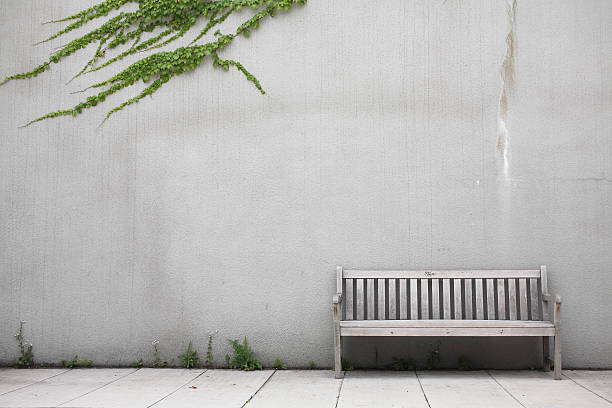bench: (328, 262, 573, 384)
